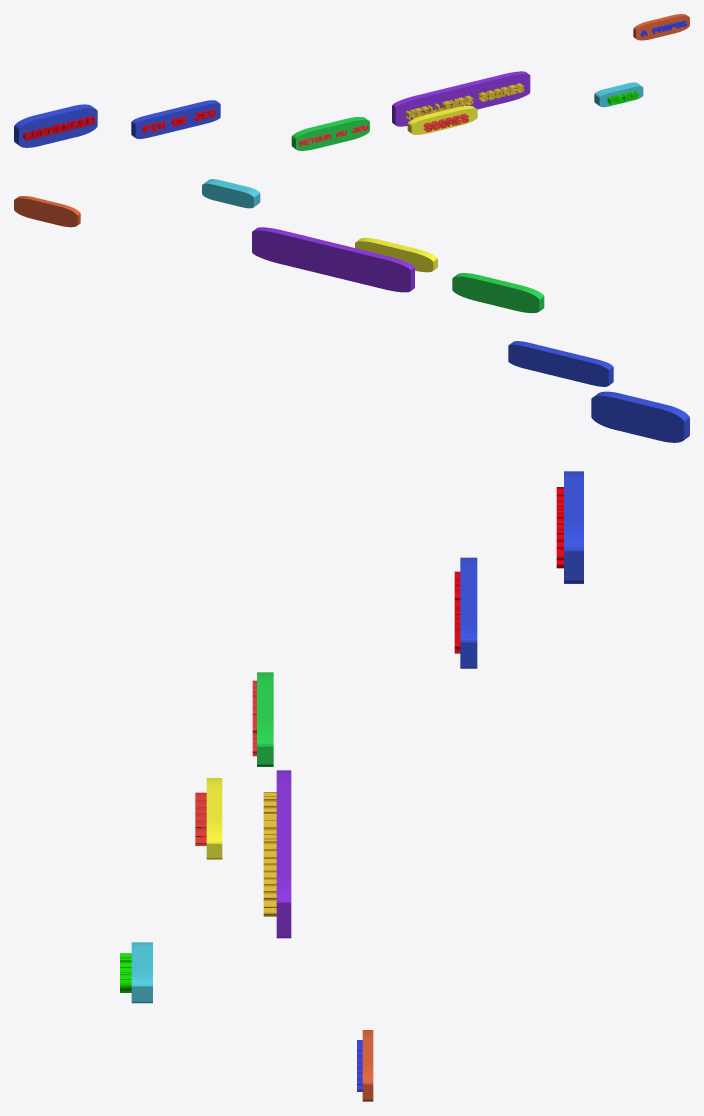
Rendered from buttons.gltf.
The picture shows the model from 3 angles, top to bottom: view 1: azimuth 30°, elevation 25°; view 2: azimuth 150°, elevation 25°; view 3: azimuth 270°, elevation 25°; orthographic projection. The views are drawn at different scales.
Parts seen in each view (by area): view 1: Score, start, gameOver, BTG, Scores_Bouton, About, MENU; view 2: Score, start, gameOver, BTG, About, Scores_Bouton, MENU; view 3: Score, start, gameOver, BTG, Scores_Bouton, MENU, About.
Part boxes in pixels (x1=…): Score: x1=392, y1=71, x2=530, y2=126; start: x1=14, y1=104, x2=97, y2=147; gameOver: x1=131, y1=100, x2=220, y2=138; BTG: x1=291, y1=117, x2=369, y2=150; Scores_Bouton: x1=407, y1=105, x2=477, y2=134; About: x1=633, y1=14, x2=689, y2=40; MENU: x1=594, y1=82, x2=643, y2=107; Score: x1=252, y1=227, x2=414, y2=292; start: x1=591, y1=391, x2=689, y2=442; gameOver: x1=508, y1=341, x2=613, y2=386; BTG: x1=452, y1=273, x2=544, y2=313; About: x1=14, y1=196, x2=80, y2=227; Scores_Bouton: x1=355, y1=238, x2=437, y2=272; MENU: x1=202, y1=179, x2=260, y2=208; Score: x1=263, y1=770, x2=291, y2=938; start: x1=556, y1=471, x2=583, y2=583; gameOver: x1=454, y1=557, x2=477, y2=668; BTG: x1=252, y1=672, x2=273, y2=766; Scores_Bouton: x1=195, y1=778, x2=222, y2=859; MENU: x1=120, y1=942, x2=152, y2=1003; About: x1=357, y1=1030, x2=373, y2=1101.
Bounding box in the file's own units: 97.83 × 4.08 × 31.69.
